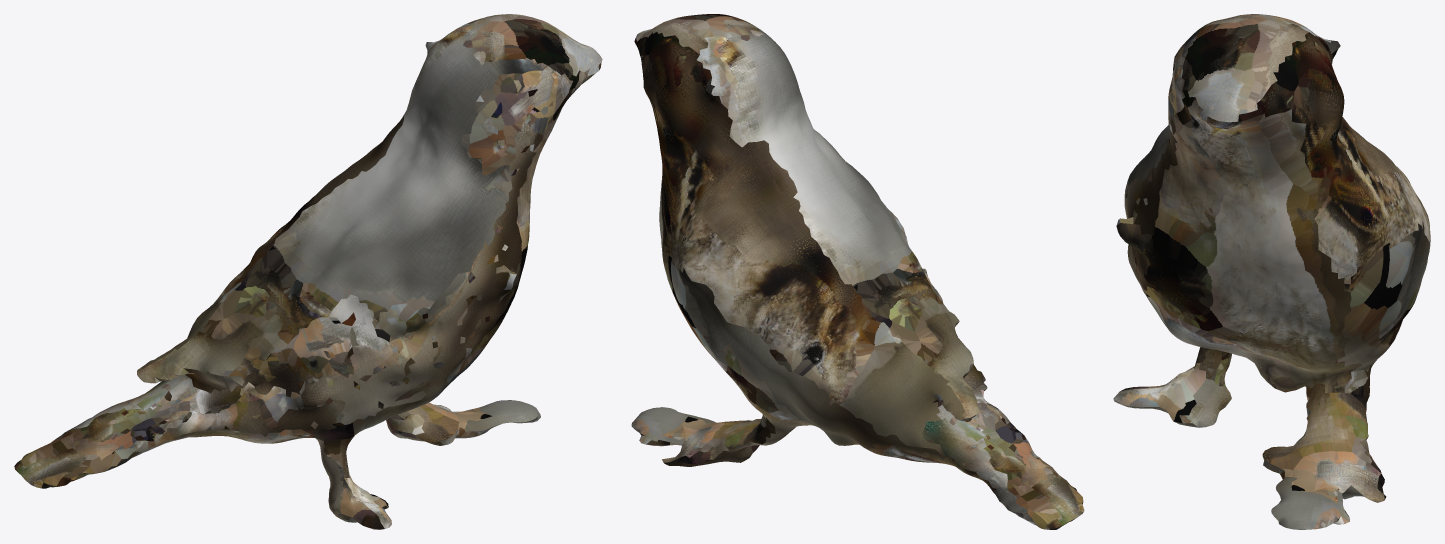
Rendered from bird_rgba.obj.
3 views of the same model, side by side, from view 1: azimuth 30°, elevation 25°; view 2: azimuth 150°, elevation 25°; view 3: azimuth 270°, elevation 25° (orthographic). The views are drawn at different scales.
Size of the model in its own units: 1.18 by 0.9423 by 0.5477.
Materials: 1 (1 with a texture image).
